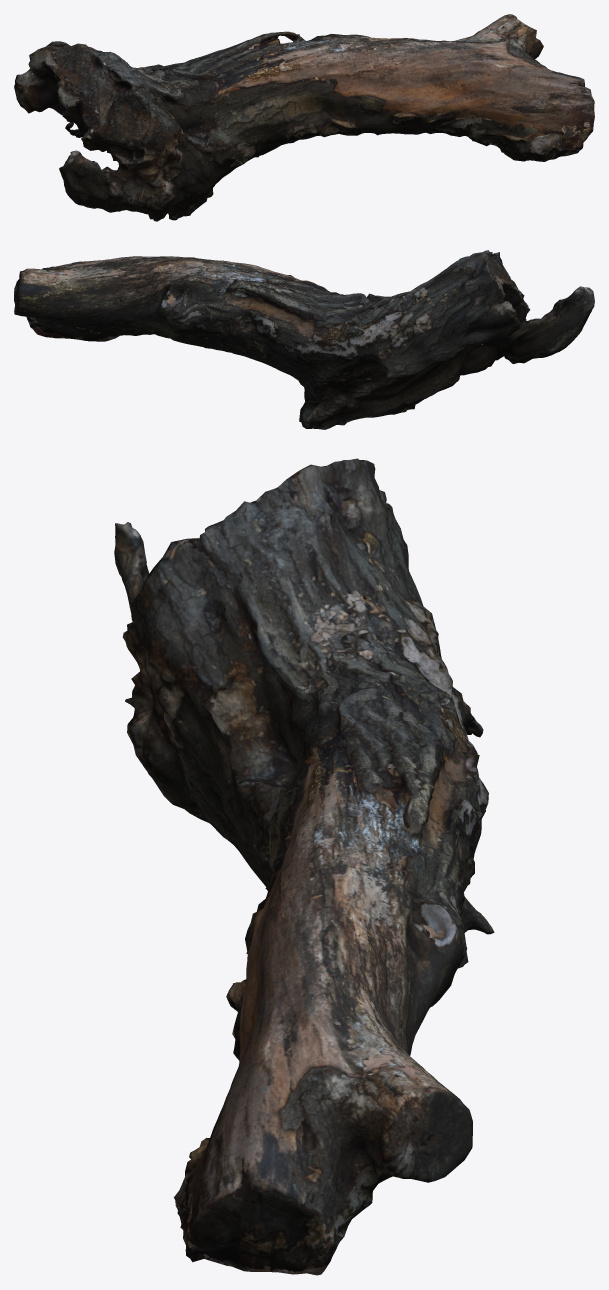
The model's file is log_mossy.glb.
3 views of the same model, one above another, from view 1: azimuth 30°, elevation 25°; view 2: azimuth 150°, elevation 25°; view 3: azimuth 270°, elevation 25° (orthographic). The views are drawn at different scales.
Visible parts, largest first — view 1: ForestLogMedium_1; view 2: ForestLogMedium_1; view 3: ForestLogMedium_1.
Part boxes in pixels (bbox=[...]): ForestLogMedium_1: bbox=[14, 14, 594, 221]; ForestLogMedium_1: bbox=[14, 250, 594, 429]; ForestLogMedium_1: bbox=[114, 458, 494, 1275].
Size of the model in its own units: 1.32 by 0.4496 by 0.415.
Materials: 1 (1 with a texture image).
